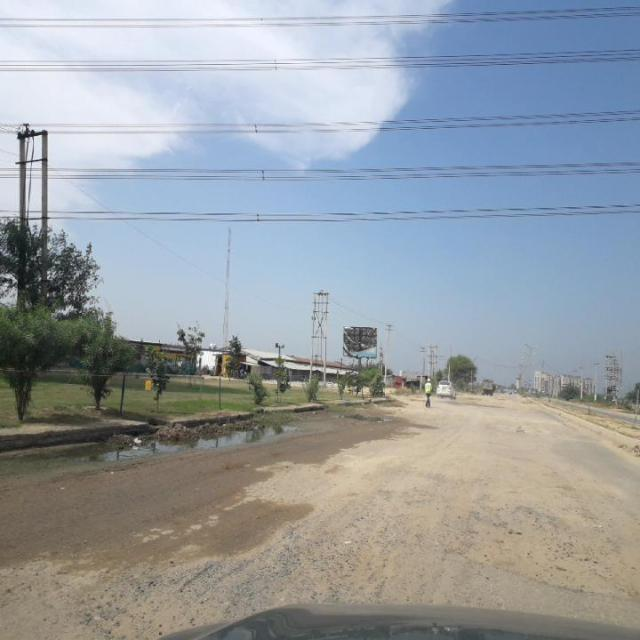Surface Erosion: (75, 363, 640, 612)
